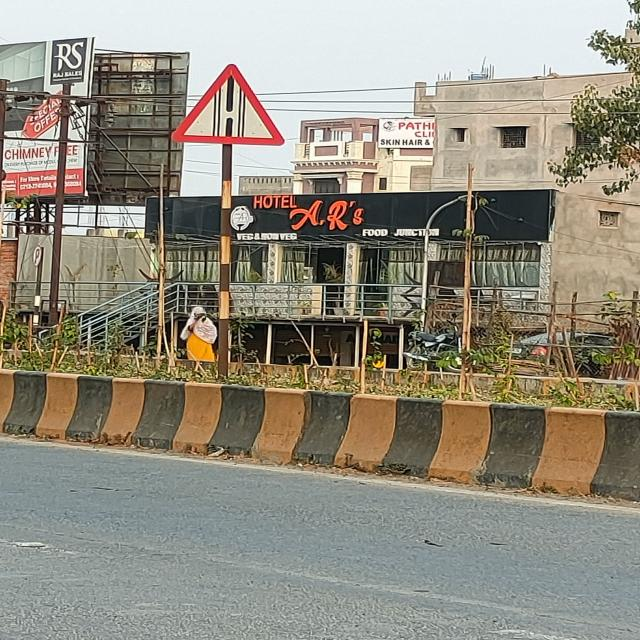GAP_IN_MEDIAN: (166, 64, 281, 146)
